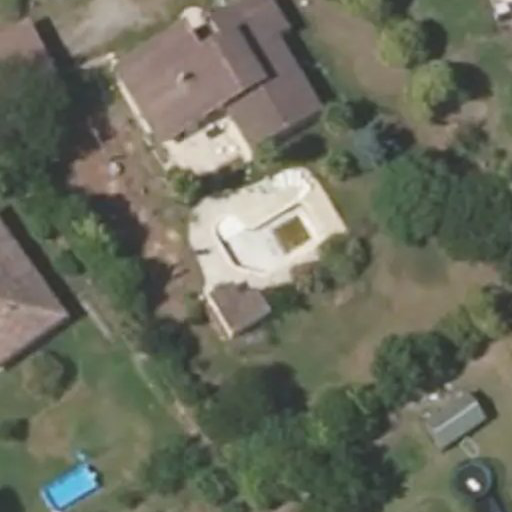pool: (195, 229, 310, 246)
